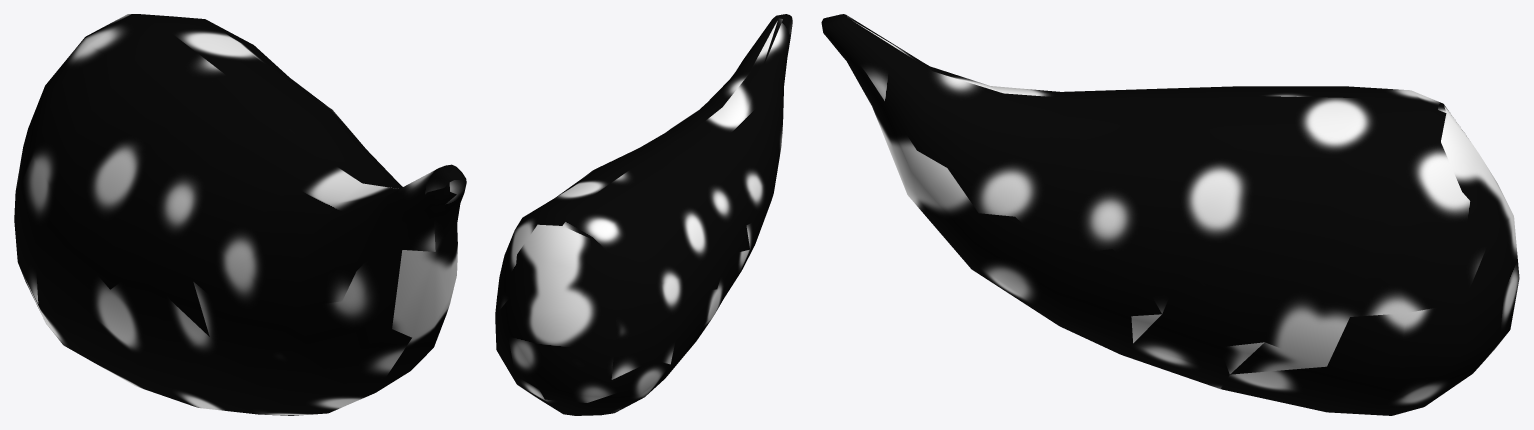
Rendered from body.glb.
The picture shows the model from 3 angles, left to right: view 1: azimuth 30°, elevation 25°; view 2: azimuth 150°, elevation 25°; view 3: azimuth 270°, elevation 25°; orthographic projection. The views are drawn at different scales.
Visible parts, largest first — view 1: _body; view 2: _body; view 3: _body.
Boxes of the visible parts, x1=… form: _body: x1=14, y1=14, x2=466, y2=415; _body: x1=495, y1=14, x2=792, y2=415; _body: x1=821, y1=14, x2=1519, y2=415.
Bounding box in the file's own units: 0.3988 × 0.5857 × 0.9724.
1 material, 1 textured.
